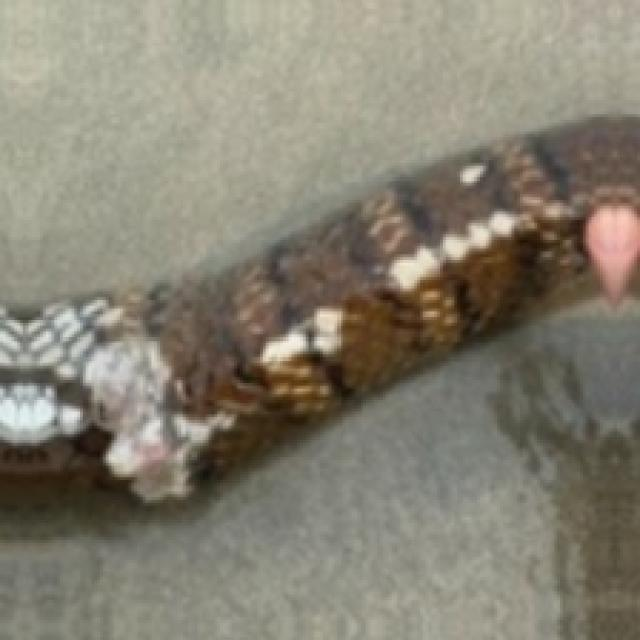king cobra: (0, 117, 637, 500), (506, 360, 637, 497), (500, 394, 517, 420)
